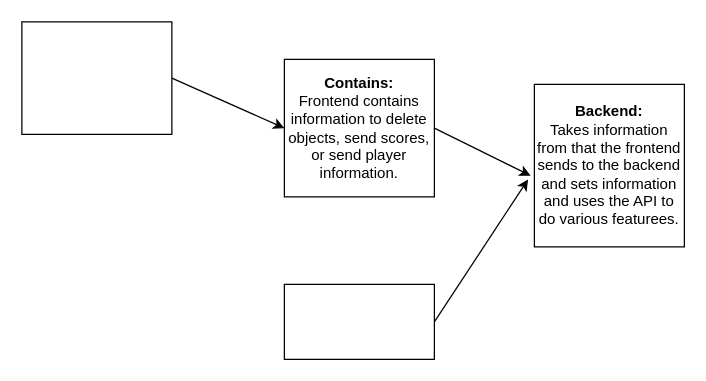
Some shapes in this 706 by 381 pixel diagram are drawn without their labels. Here are the shapes that lost their labels. From the top down, the centre of each, then its label:
pixel 96 77: Frontend: Sends information using posts from the frontend
pixel 358 321: API: Sends API data
